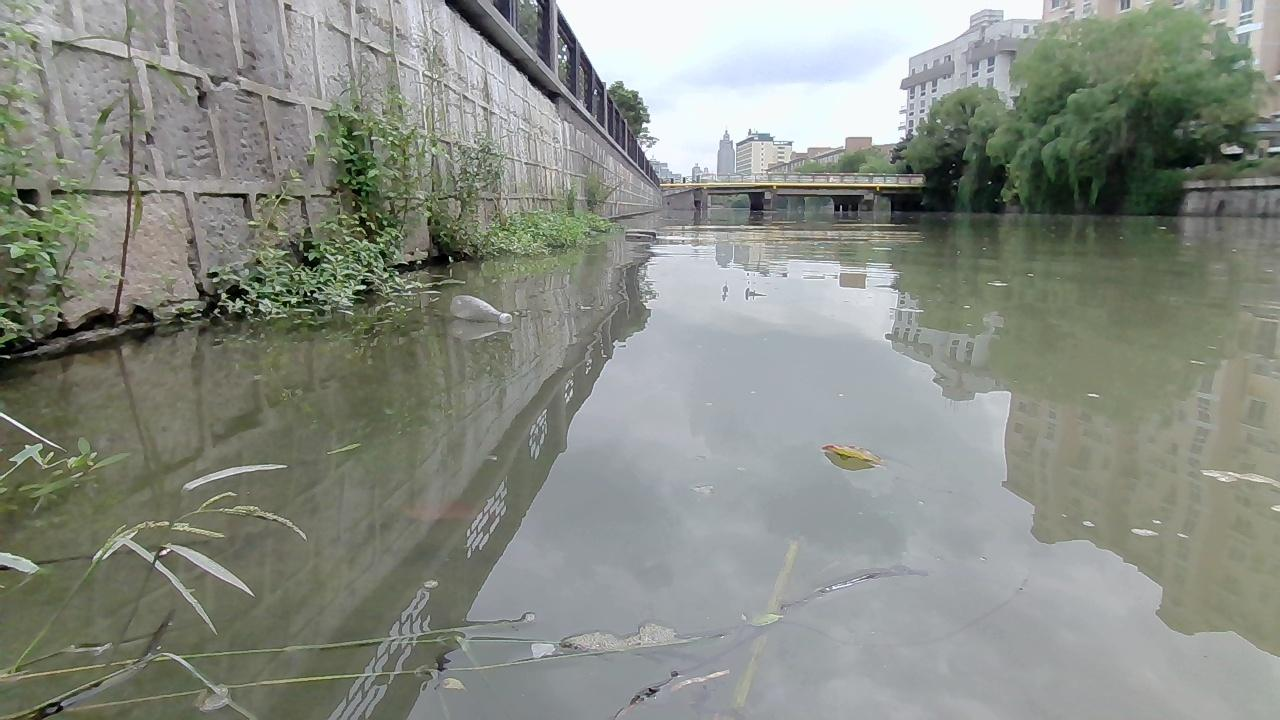bottle: (447, 292, 513, 329)
